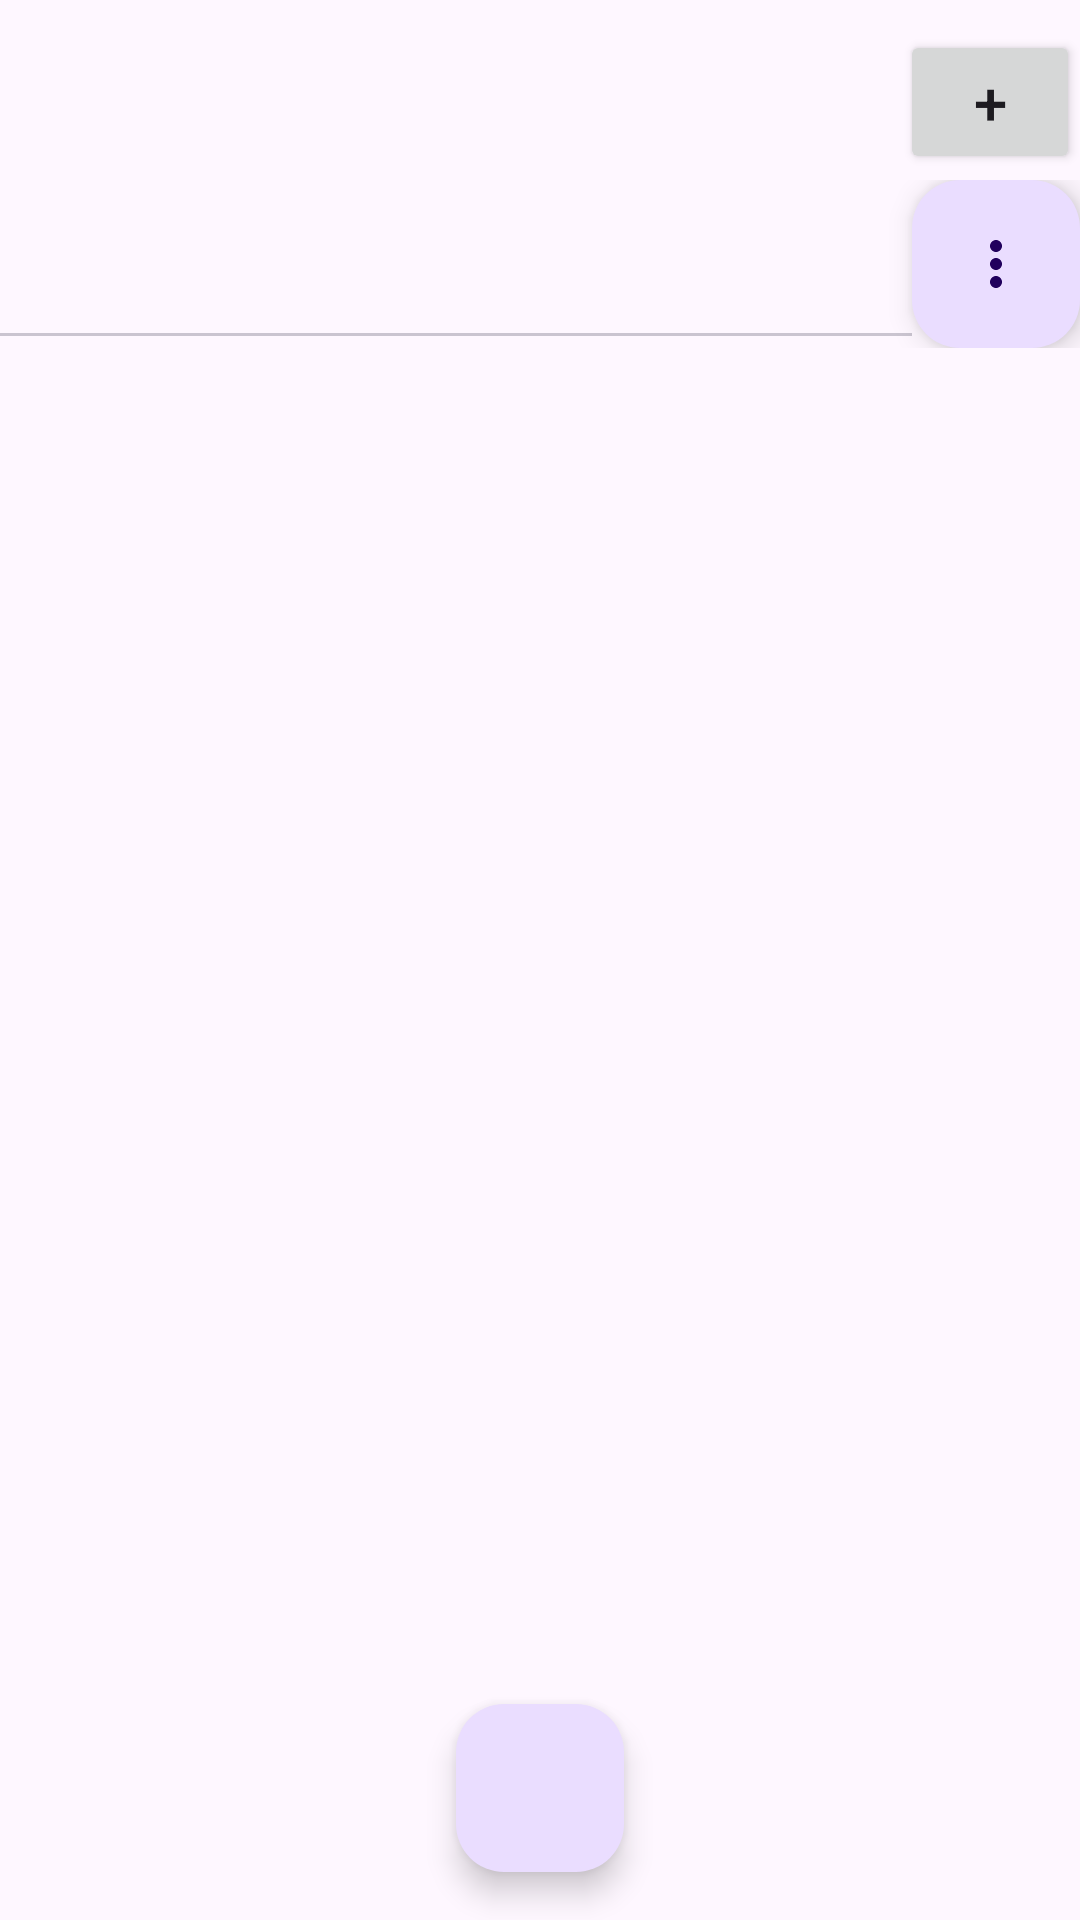

Icon click points for this 1080w x 1920h phone screenshot, format (x,y):
Manage Routine Options: (996,264)
